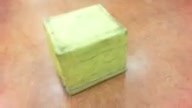cube: (42, 3, 129, 96)
